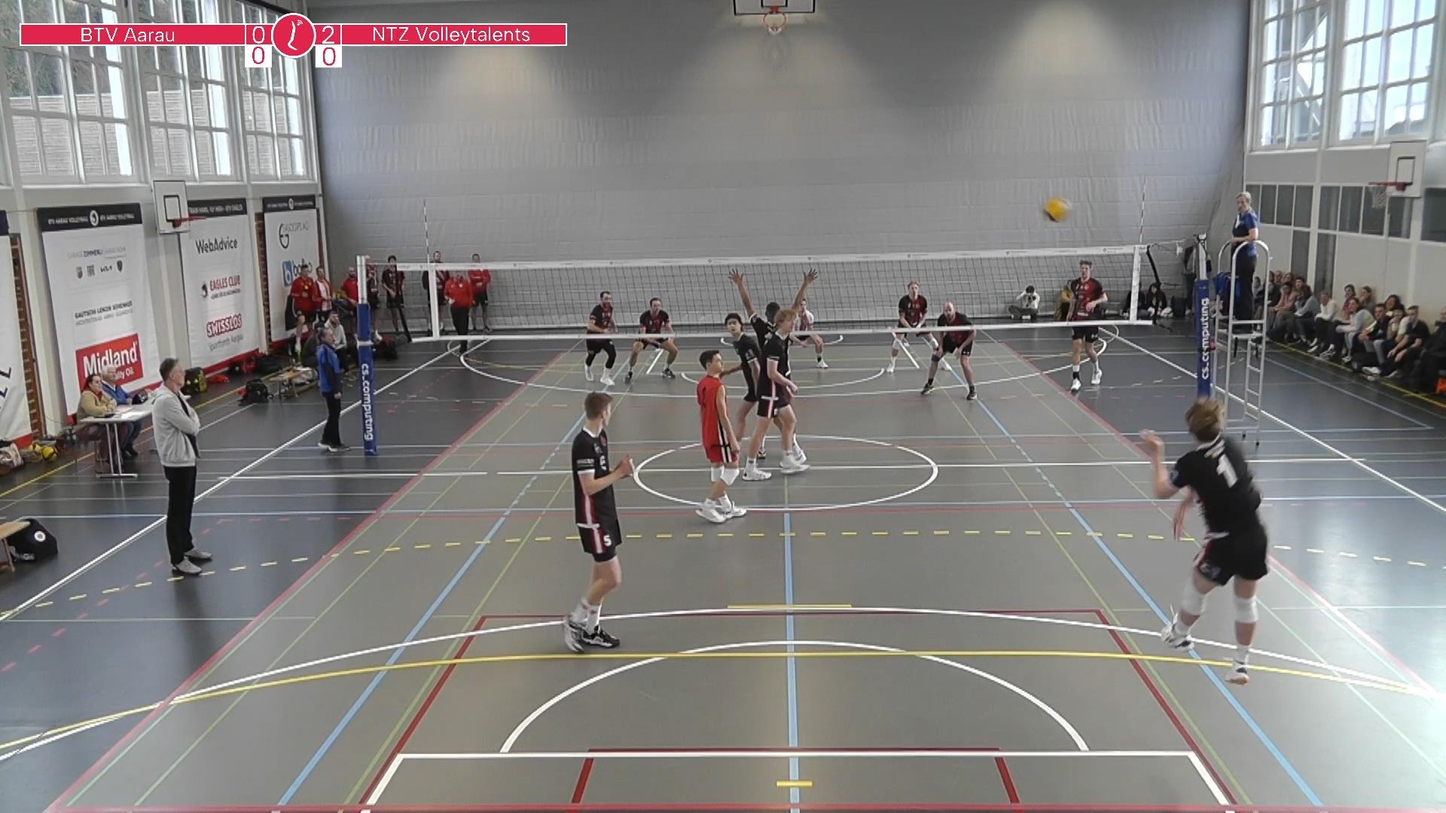Player: (563, 392, 633, 652), (730, 270, 807, 473), (697, 350, 746, 522), (921, 302, 976, 399), (723, 312, 761, 436), (624, 297, 678, 383), (584, 291, 616, 387), (898, 282, 938, 353), (793, 300, 828, 369), (1070, 326, 1101, 391)
Serve: (1133, 394, 1293, 679)
ball: (1038, 192, 1075, 225)
